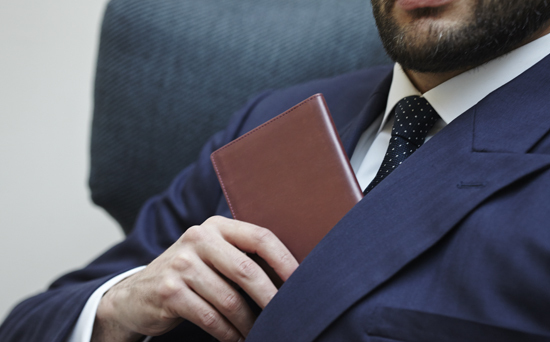monedero: (208, 91, 366, 292)
